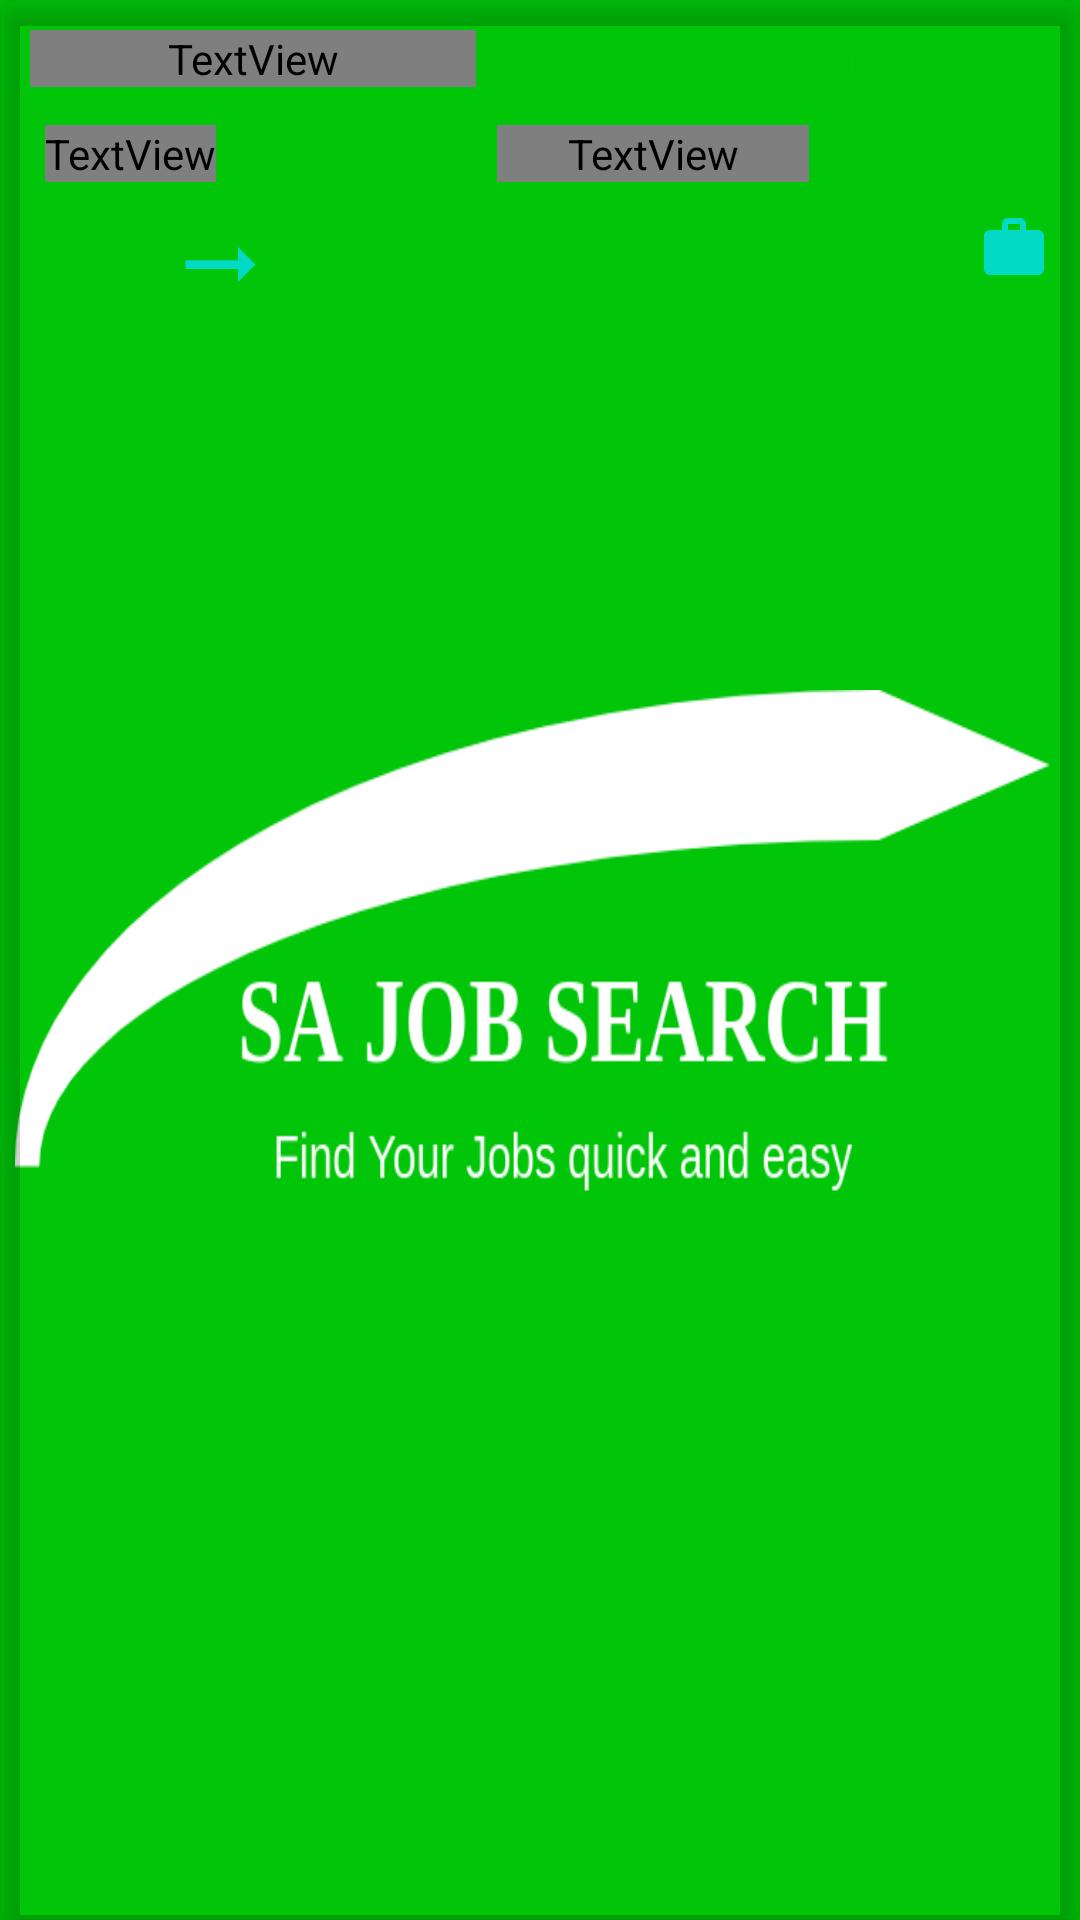

Locate icon controls on the screen. Image size 1080 x 1920, boxes as (x1, y1, x2, y2).
arrow right: (185, 247, 256, 282)
work: (984, 218, 1044, 275)
